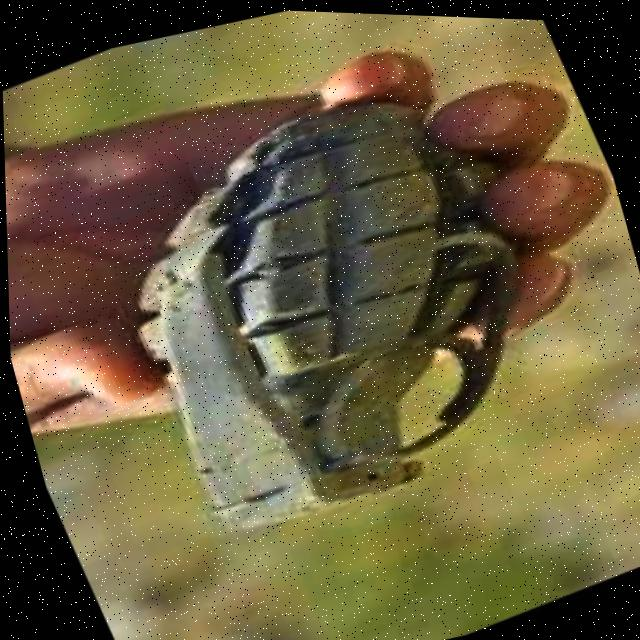grenade: (45, 32, 618, 584)
